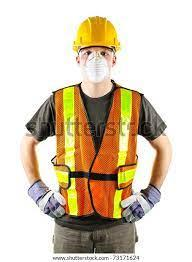Gloves: (24, 179, 69, 219), (119, 185, 164, 222)
Helmet: (72, 13, 128, 53)
Jacket: (56, 82, 138, 222)
